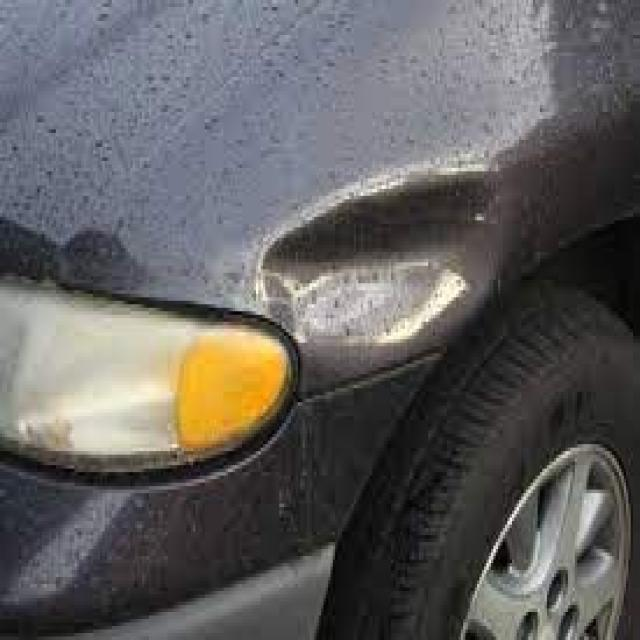minor: (228, 140, 520, 363)
